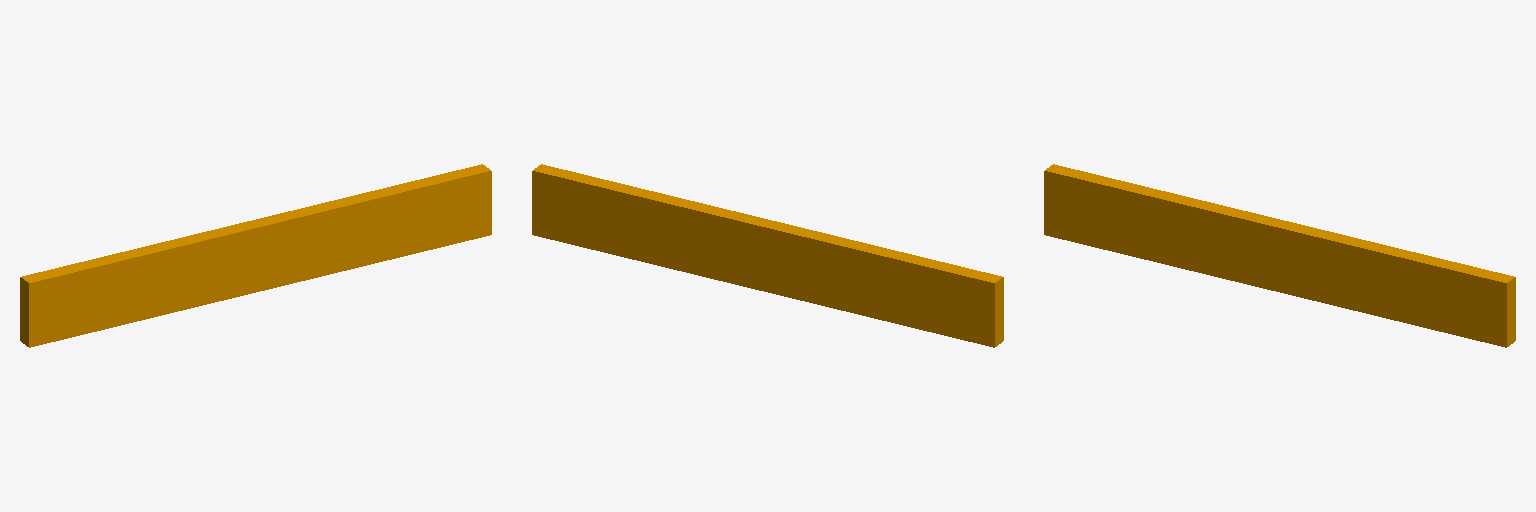
URDF robot description (score):
<?xml version="1.0"?>
<robot name="score">

  <material name="red">
    <color rgba="1 0 0 1"/>
  </material>           

  <material name="gris">
    <color rgba="0.8 0.8 0.702 1"/>
  </material>       

  


  <link name="base_robot">
    <visual>
        <geometry>
            <box size="3.0 0.1 0.4"/>
        </geometry>
        <origin xyz="0 0 0 " rpy="0 0 0"/>
    </visual>
    <material name="blue">
    <color rgba="0.1 0.1 0.44 1"/>
    </material>
  
    <inertial>
        <mass value="20"/>
        <inertia ixx="1.0" ixy="0.0" ixz="0.0" iyy="1.0" iyz="0.0" izz="1.0"/>
    </inertial> 
  </link>

</robot>

--- What the picture shows (computed from the rendered views, not written in the file) ---
Views: 3 orthographic renders of the robot side by side, from view 1: azimuth 30°, elevation 25°; view 2: azimuth 150°, elevation 25°; view 3: azimuth 330°, elevation 25°.
Model score with 1 links and 0 joints (none), rooted at base_robot, posed all joints at 0.
Links seen in each view (by area): view 1: base_robot; view 2: base_robot; view 3: base_robot.
Boxes of the visible links, x1=… form: base_robot: x1=20, y1=164, x2=491, y2=347; base_robot: x1=532, y1=164, x2=1003, y2=347; base_robot: x1=1044, y1=164, x2=1515, y2=347.
Size in the robot's own frame: 3 by 0.1 by 0.4 metres.
Geometry: primitives only (box / cylinder / sphere), no mesh files.